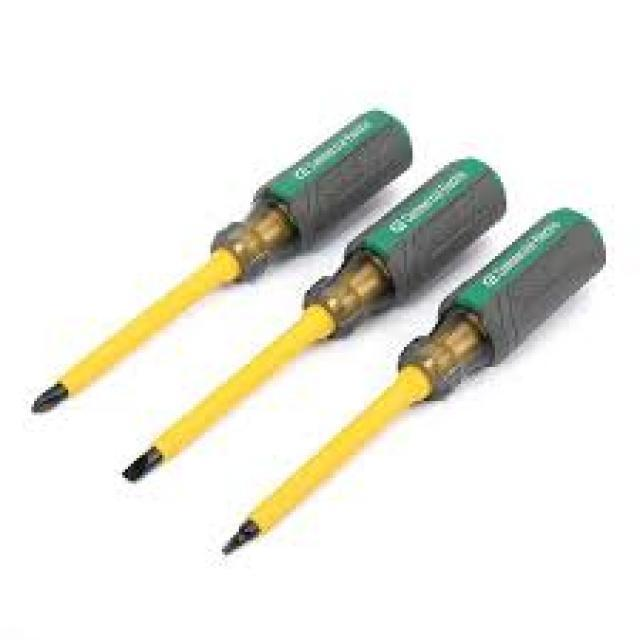screwdriver: (212, 206, 610, 559), (106, 158, 507, 491), (29, 103, 418, 420)
